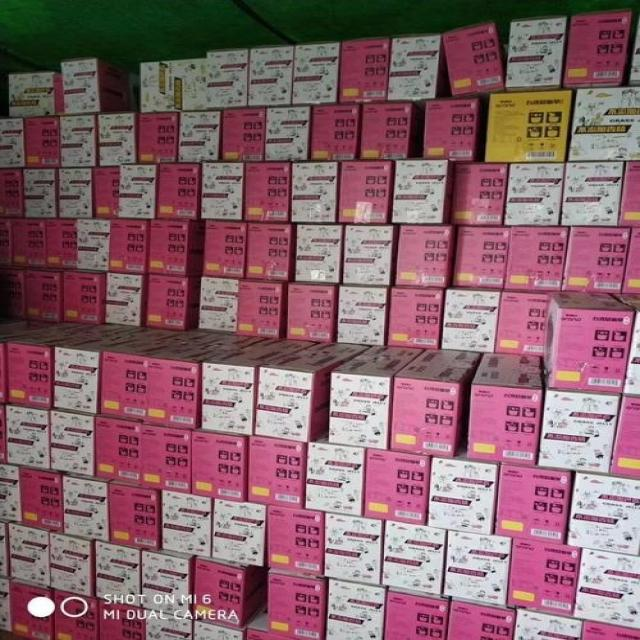box: (253, 340, 372, 444), (143, 330, 265, 430), (202, 336, 317, 437), (96, 327, 212, 423), (389, 348, 484, 459), (329, 345, 425, 450), (6, 324, 123, 410), (51, 327, 160, 416), (543, 291, 635, 396), (466, 353, 544, 468), (538, 390, 622, 476), (494, 463, 575, 545), (484, 89, 572, 162), (564, 471, 640, 555), (0, 314, 69, 404), (426, 456, 500, 536), (562, 8, 634, 89), (509, 536, 581, 616), (192, 556, 268, 630), (440, 529, 512, 607), (364, 446, 433, 526), (573, 548, 640, 630), (303, 429, 366, 516), (568, 86, 640, 161), (381, 520, 448, 596), (504, 14, 568, 91), (442, 20, 504, 96), (562, 226, 630, 294), (246, 437, 307, 511), (323, 512, 384, 585), (390, 159, 456, 225), (561, 161, 625, 228), (266, 570, 328, 639), (266, 506, 324, 579), (393, 223, 457, 289), (504, 227, 570, 291), (191, 430, 248, 502), (503, 162, 566, 227), (440, 288, 502, 353), (211, 498, 268, 568), (452, 224, 512, 289), (61, 57, 129, 114), (141, 549, 196, 619), (138, 423, 192, 494), (387, 33, 442, 102), (385, 287, 445, 350), (324, 579, 387, 639), (495, 289, 550, 357), (451, 162, 509, 226), (337, 159, 394, 224), (424, 96, 479, 163), (109, 480, 160, 552), (383, 585, 451, 639), (159, 491, 212, 559), (338, 35, 390, 103), (342, 224, 399, 286), (141, 58, 207, 111), (60, 473, 110, 542), (335, 285, 390, 347), (148, 219, 206, 277), (285, 282, 339, 344), (608, 294, 640, 398), (291, 40, 342, 105), (95, 539, 141, 609), (289, 161, 340, 224), (146, 274, 202, 331), (358, 102, 413, 160), (5, 401, 51, 470), (50, 409, 96, 478), (96, 417, 142, 486), (244, 221, 296, 282), (236, 279, 288, 339), (293, 223, 344, 284), (310, 103, 362, 161), (18, 468, 63, 535), (243, 162, 292, 222), (51, 533, 96, 598), (447, 598, 515, 640), (248, 45, 294, 107), (8, 522, 51, 587), (264, 104, 312, 162), (202, 220, 247, 279), (10, 580, 55, 639), (220, 105, 266, 162), (155, 162, 200, 220), (206, 48, 248, 110), (200, 162, 244, 220), (9, 72, 65, 116), (63, 269, 106, 326), (105, 271, 148, 328), (611, 395, 640, 479), (178, 109, 223, 163), (116, 164, 159, 219), (109, 219, 151, 275), (243, 592, 293, 639), (198, 275, 239, 332), (96, 112, 138, 167), (137, 110, 179, 165), (55, 588, 100, 639), (512, 608, 582, 640), (60, 112, 99, 169), (24, 269, 63, 324), (56, 167, 95, 218), (23, 116, 60, 169), (10, 218, 46, 270), (23, 168, 59, 218), (100, 599, 145, 639), (76, 218, 109, 271), (46, 218, 77, 270), (143, 608, 193, 639), (92, 166, 120, 219), (0, 267, 27, 319), (0, 463, 22, 524), (620, 161, 640, 227), (0, 118, 24, 169), (623, 226, 640, 294), (0, 168, 23, 218), (582, 620, 640, 639), (192, 620, 246, 640), (628, 17, 640, 86), (0, 218, 12, 268), (0, 577, 10, 631), (0, 520, 9, 579), (0, 406, 6, 465)
